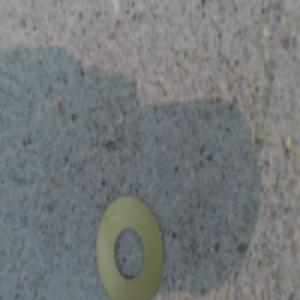Washer: (95, 189, 165, 299)
